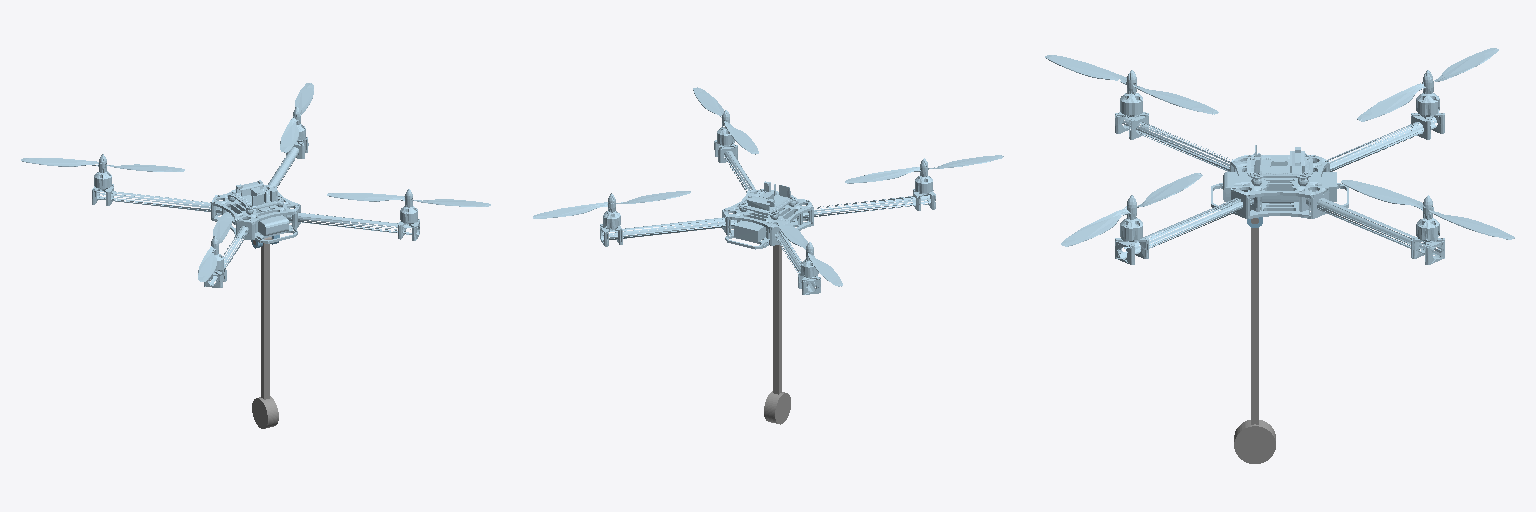
The robot description file, URDF, robot "onshape":
<robot name="onshape">
    <link name="drone">
        <visual><origin xyz="5.5511151231257827021e-17 -5.5511151231257827021e-17 0" rpy="0 -0 0" /><geometry>
            <mesh filename="package://arm-drone/urdf/drone.stl" /></geometry><material name="drone_material"><color rgba="0.76862745098039220171 0.88627450980392152857 0.95294117647058818044 1.0" /></material></visual><collision><origin xyz="5.5511151231257827021e-17 -5.5511151231257827021e-17 0" rpy="0 -0 0" /><geometry>
                <mesh filename="package://arm-drone/urdf/drone.stl" /></geometry></collision><inertial><origin xyz="0 0 0" /><mass value="0" /><inertia ixx="0" ixy="0" ixz="0" iyy="0" iyz="0" izz="0" /></inertial></link><link name="arm_hinge"><visual><origin xyz="0 3.4694469519536141888e-18 -0.020000000000000003886" rpy="0 -0 0" /><geometry>
                    <mesh filename="package://arm-drone/urdf/arm_hinge.stl" /></geometry><material name="arm_hinge_material"><color rgba="0.61568627450980395466 0.81176470588235294379 0.92941176470588238168 1.0" /></material></visual><collision><origin xyz="0 3.4694469519536141888e-18 -0.020000000000000003886" rpy="0 -0 0" /><geometry>
                        <mesh filename="package://arm-drone/urdf/arm_hinge.stl" /></geometry></collision><inertial><origin xyz="0 0 0" /><mass value="0" /><inertia ixx="0" ixy="0" ixz="0" iyy="0" iyz="0" izz="0" /></inertial></link><link name="arm"><visual><origin xyz="0 0 -0.020000000000000000416" rpy="-1.570796326794896558 -1.570796326794896558 0" /><geometry>
                            <mesh filename="package://arm-drone/urdf/arm.stl" /></geometry><material name="arm_material"><color rgba="0.64705882352941179736 0.64705882352941179736 0.64705882352941179736 1.0" /></material></visual><collision><origin xyz="0 0 -0.020000000000000000416" rpy="-1.570796326794896558 -1.570796326794896558 0" /><geometry>
                                <mesh filename="package://arm-drone/urdf/arm-drone/arm.stl" /></geometry></collision><inertial><origin xyz="0 0 0" /><mass value="0" /><inertia ixx="0" ixy="0" ixz="0" iyy="0" iyz="0" izz="0" /></inertial></link><link name="roller_center"><visual><origin xyz="0 0 0" rpy="-1.2197507505365855551e-33 -1.2087183088652343291e-34 4.3140830754331010859e-32" /><geometry>
                                    <mesh filename="package://arm-drone/urdf/arm-drone/cube.stl" /></geometry><material name="cube_material"><color rgba="0.61568627450980395466 0.81176470588235294379 0.92941176470588238168 1.0" /></material></visual><collision><origin xyz="0 0 0" rpy="-1.2197507505365855551e-33 -1.2087183088652343291e-34 4.3140830754331010859e-32" /><geometry>
                                        <mesh filename="package://arm-drone/urdf/arm-drone/cube.stl" /></geometry></collision><inertial><origin xyz="0 0 0" /><mass value="0" /><inertia ixx="0" ixy="0" ixz="0" iyy="0" iyz="0" izz="0" /></inertial></link><joint name="arm_roller_center" type="fixed"><origin xyz="3.4694469519536141888e-18 -0.29999999999999993339 -0.020000000000000000416" rpy="-3.7823242981197238136e-17 2.1448854157642213953e-17 -1.570796326794896336" /><parent link="arm" /><child link="roller_center" /><axis xyz="0 0 1" /><limit effort="1" velocity="20" /><joint_properties friction="0.0" /></joint><joint name="arm" type="revolute"><origin xyz="0.020000000000000003886 2.7755575615628913511e-17 -0.019999999999999986539" rpy="1.570796326794896558 -5.967448757360180906e-16 1.570796326794896558" /><parent link="arm_hinge" /><child link="arm" /><axis xyz="0 0 1" /><limit effort="1" velocity="20" lower="0" upper="1.3089969389957472057" /><joint_properties friction="0.0" /></joint><joint name="arm_bracket" type="fixed"><origin xyz="5.5511151231257827021e-17 -0.029699999999999063954 -1.3877787807814456755e-17" rpy="0 -0 0" /><parent link="drone" /><child link="arm_hinge" /><axis xyz="0 0 1" /><limit effort="1" velocity="20" /><joint_properties friction="0.0" /></joint><link name="cg"><visual><origin xyz="0 0 0" rpy="0 -0 0" /><geometry>
                                            <mesh filename="package://arm-drone/urdf/arm-drone/cube.stl" /></geometry><material name="cube_material"><color rgba="0.61568627450980395466 0.81176470588235294379 0.92941176470588238168 1.0" /></material></visual><collision><origin xyz="0 0 0" rpy="0 -0 0" /><geometry>
                                                <mesh filename="package://arm-drone/urdf/arm-drone/cube.stl" /></geometry></collision><inertial><origin xyz="0 0 0" /><mass value="0" /><inertia ixx="0" ixy="0" ixz="0" iyy="0" iyz="0" izz="0" /></inertial></link><joint name="cg" type="fixed"><origin xyz="-3.7955031092379710916e-18 3.1403516550117630373e-18 0.014000000000000000291" rpy="0 -0 0" /><parent link="drone" /><child link="cg" /><axis xyz="0 0 1" /><limit effort="1" velocity="20" /><joint_properties friction="0.0" /></joint></robot>

--- Facts derived from the render (not from the file) ---
The picture shows the robot from 3 angles, left to right: view 1: azimuth 30°, elevation 25°; view 2: azimuth 150°, elevation 25°; view 3: azimuth 270°, elevation 25°; orthographic projection.
Model onshape with 5 links and 4 joints (1 revolute, 3 fixed), rooted at drone, posed every joint at zero.
Links seen in each view (by area): view 1: drone, arm; view 2: drone, arm; view 3: drone, arm.
Link boxes in pixels (x1,y1,x2,y2): drone: (21,83,490,287); arm: (252,237,278,428); drone: (533,87,1003,294); arm: (764,245,790,424); drone: (1045,48,1514,264); arm: (1234,218,1275,463).
Size in the robot's own frame: 0.5616 by 0.5616 by 0.432 metres.
5 mesh visuals loaded from 4 distinct referenced files (4 binary STL).